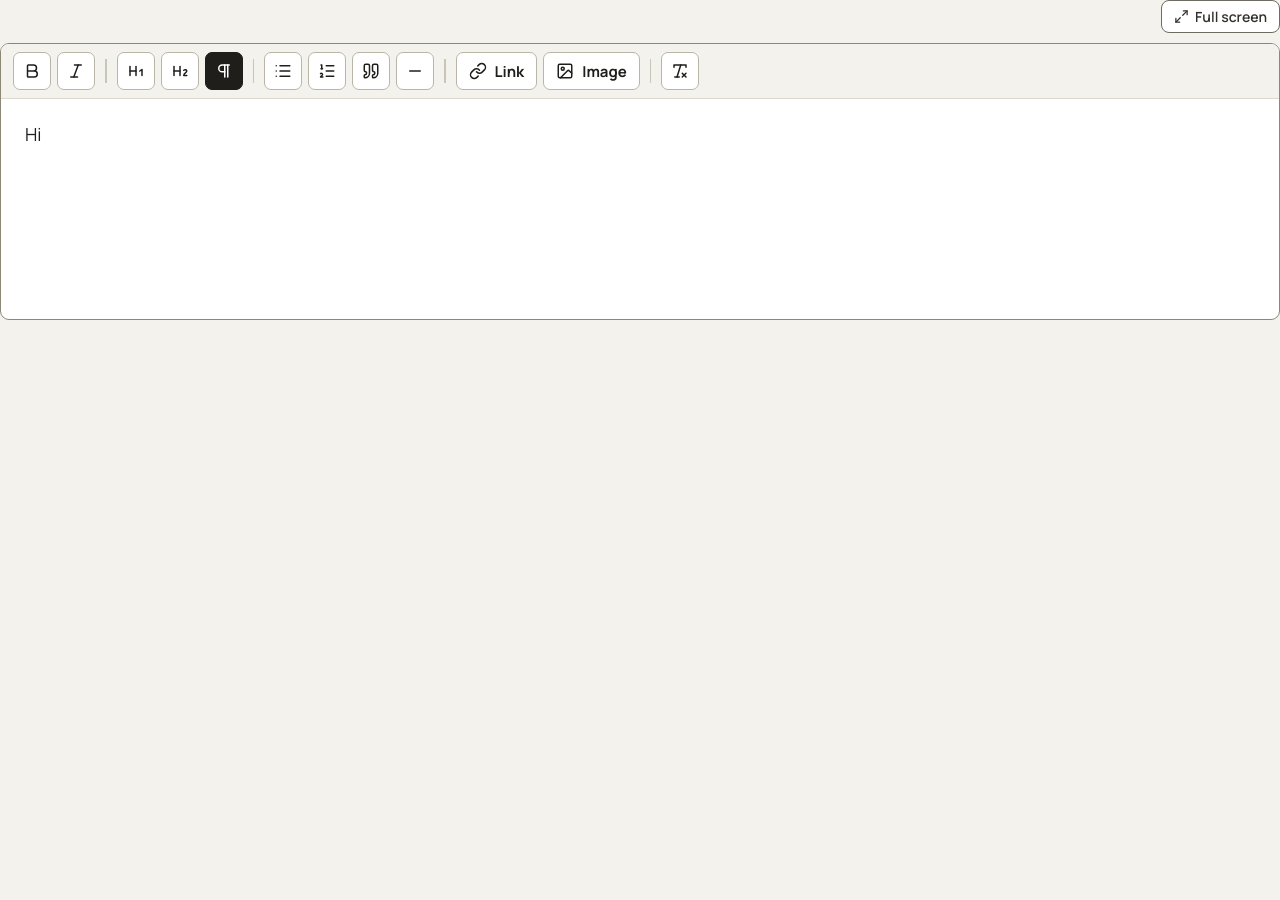
Escape with a dialog open in full screen › closes only the link dialog, not the writing room
expect the button titled "Bold" is shown: met, box [13,52,51,90]
Click the button "Full screen" at (1221, 16), box [1161,0,1279,33]
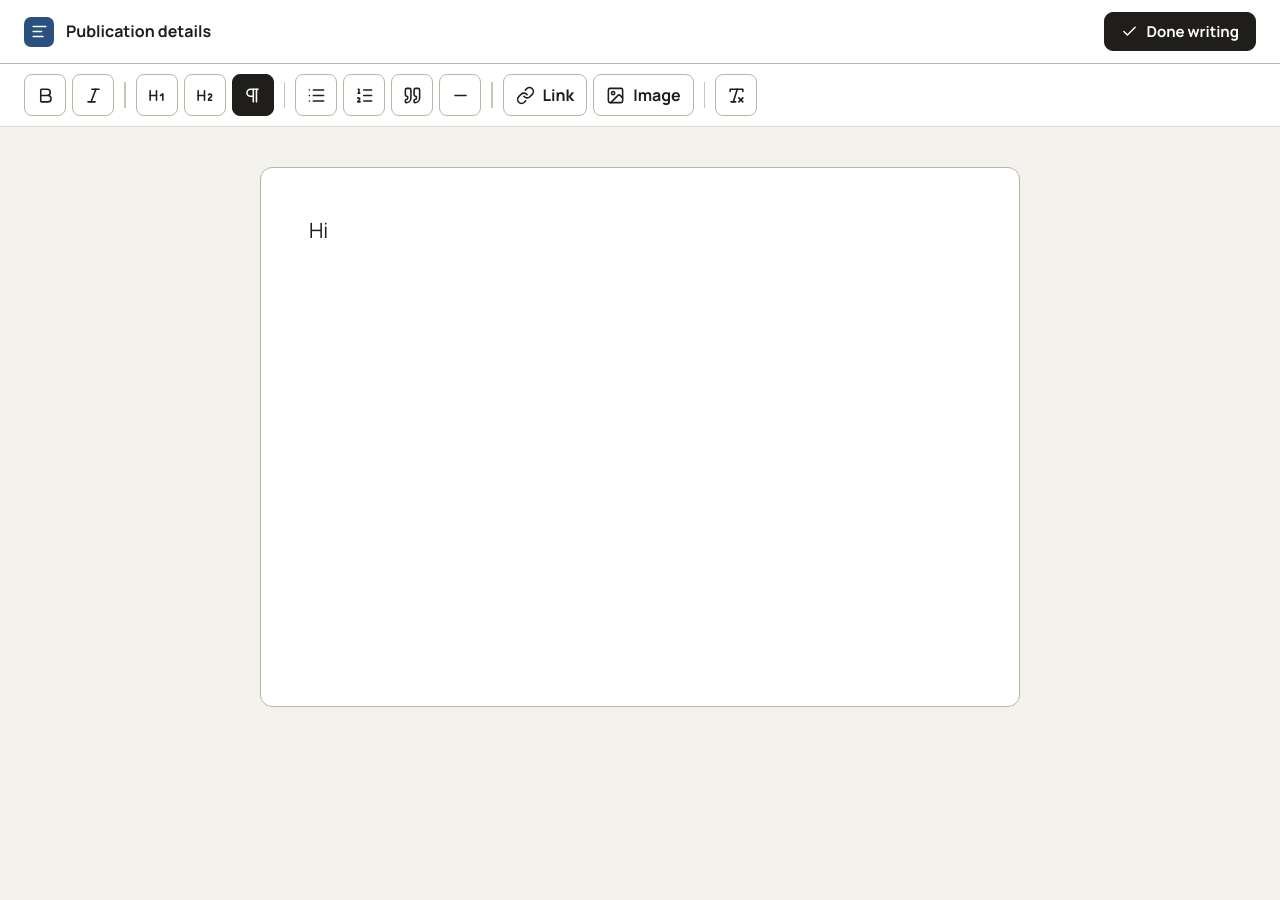
Note: The full-screen toolbar is the last one rendered.
Click the button "Link" at (545, 95), box [502,74,587,116]
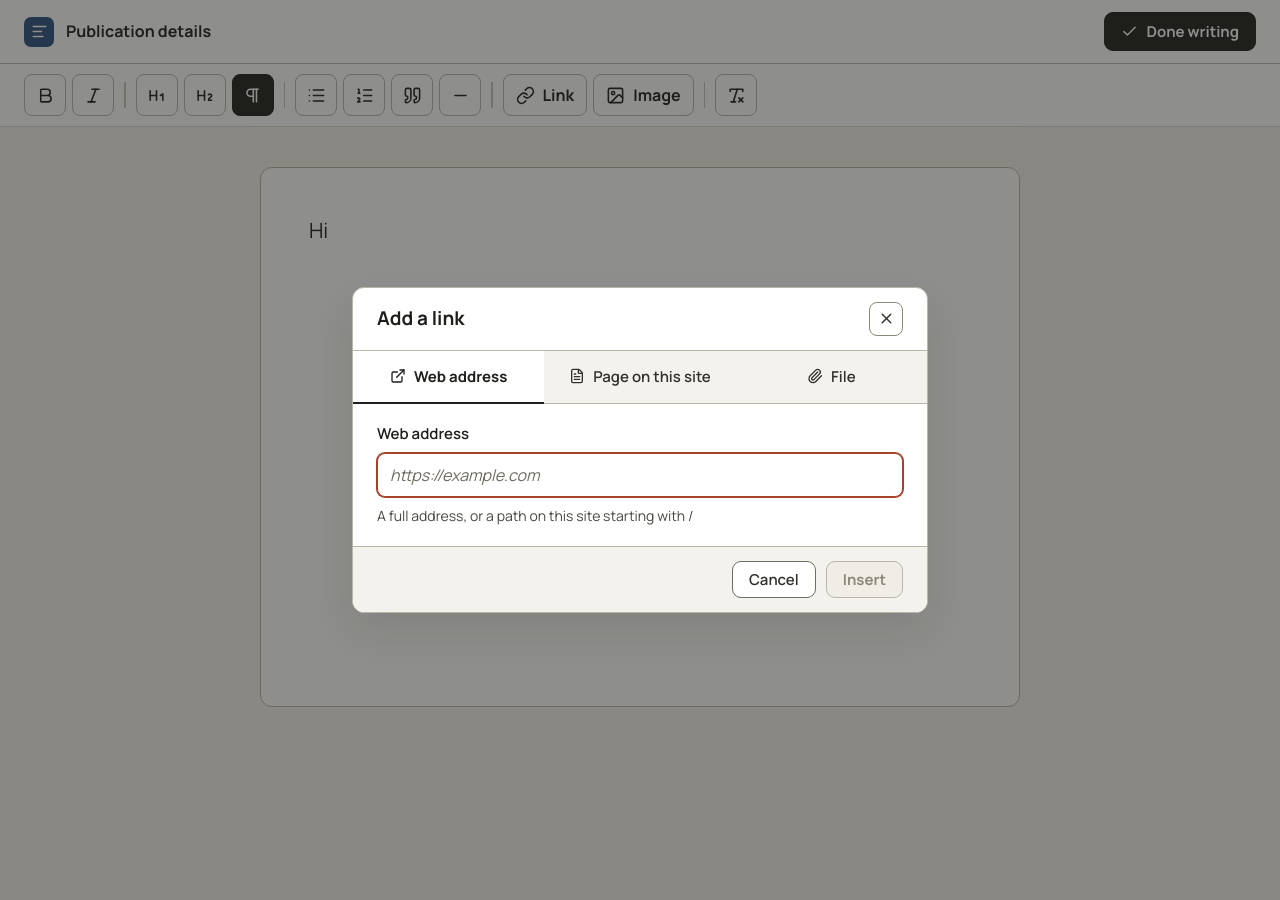
expect the dialog "Add a link" is shown: met, box [352,287,928,613]
Press Escape
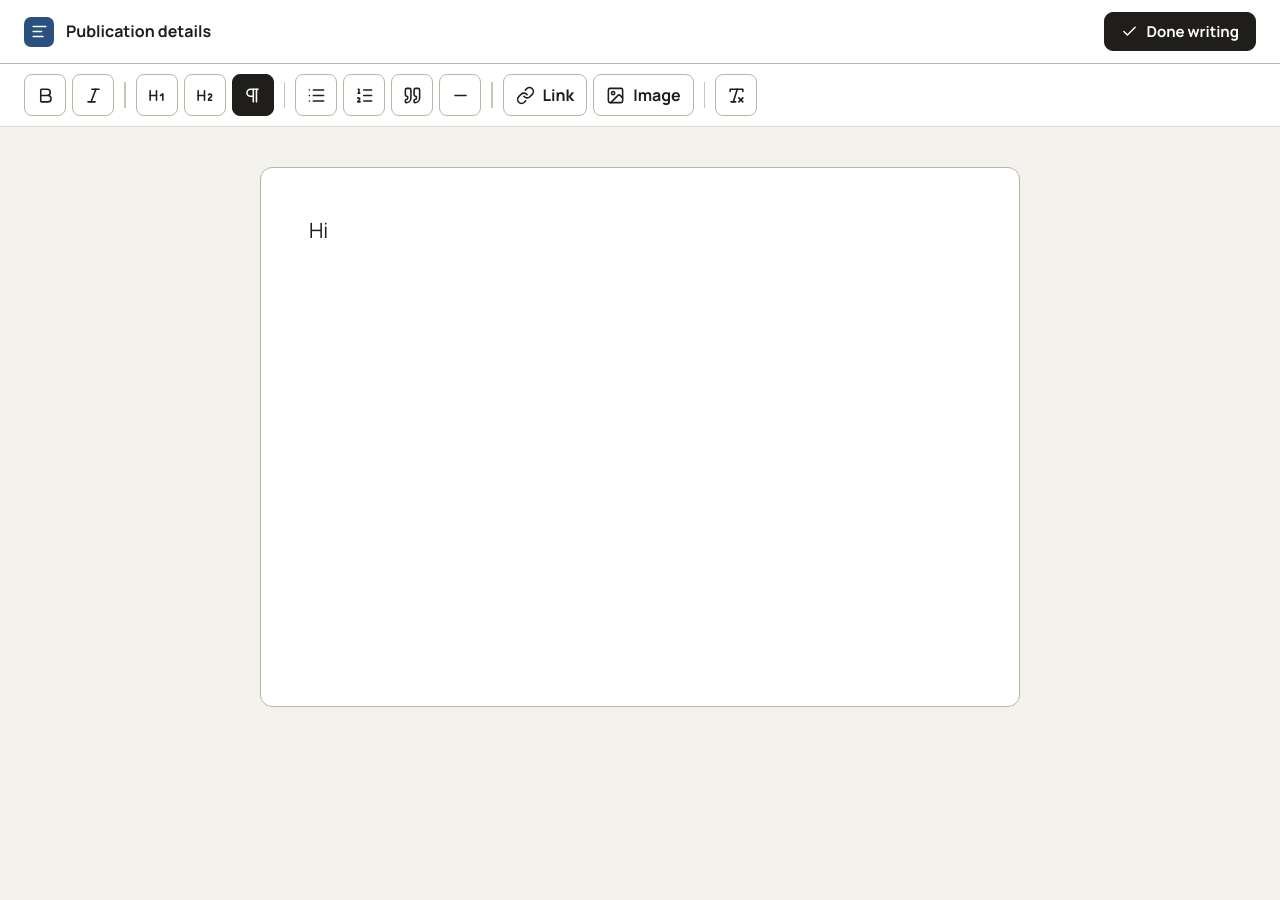
expect the dialog "Publication details Done writing Link Image Hi" is shown: met
expect the heading "Add a link" is gone: met
